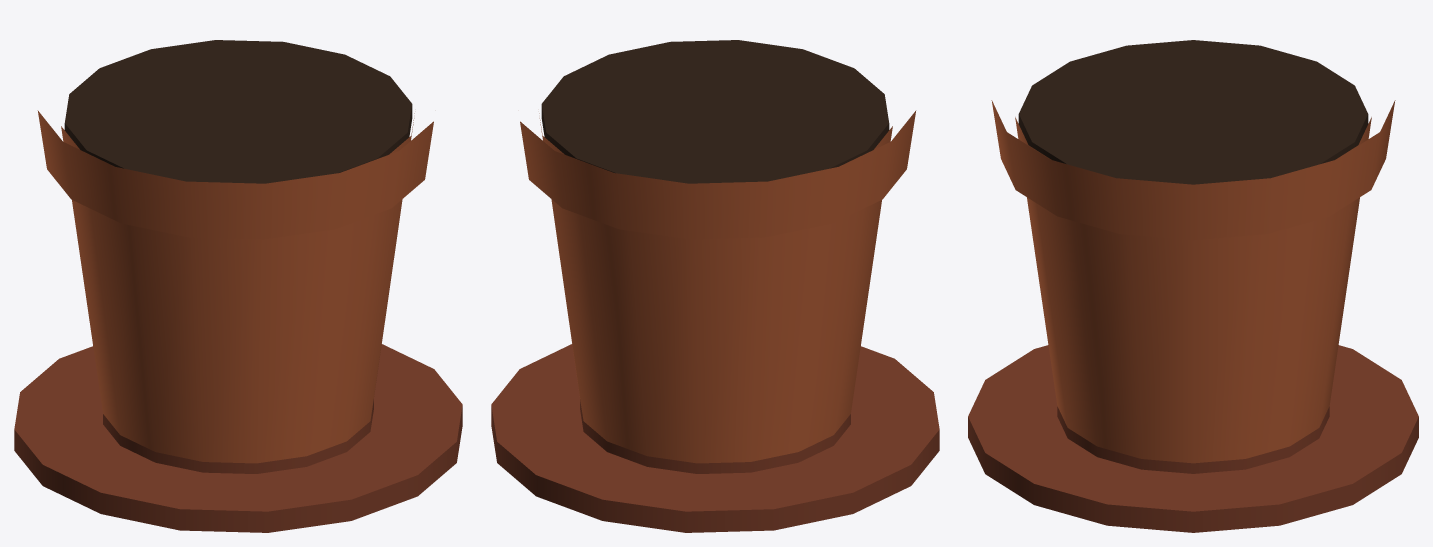
Rendered from pot.glb.
The picture shows the model from 3 angles, left to right: view 1: azimuth 30°, elevation 25°; view 2: azimuth 150°, elevation 25°; view 3: azimuth 270°, elevation 25°; orthographic projection.
Parts seen in each view (by area): view 1: terracottaBowl, soil, drainageSaucer, rolledRim, potBase; view 2: terracottaBowl, soil, drainageSaucer, rolledRim, potBase; view 3: terracottaBowl, soil, drainageSaucer, rolledRim, potBase.
Part boxes in pixels (x1,y1,x2,y2): terracottaBowl: [61, 113, 414, 463]; soil: [64, 40, 412, 183]; drainageSaucer: [14, 344, 462, 532]; rolledRim: [37, 110, 433, 239]; potBase: [103, 399, 373, 473]; terracottaBowl: [539, 113, 892, 463]; soil: [541, 40, 889, 183]; drainageSaucer: [491, 344, 939, 532]; rolledRim: [520, 110, 916, 239]; potBase: [580, 399, 850, 473]; terracottaBowl: [1015, 117, 1371, 463]; soil: [1018, 40, 1368, 184]; drainageSaucer: [968, 345, 1418, 532]; rolledRim: [991, 100, 1395, 240]; potBase: [1057, 406, 1329, 473].
Bounding box in the file's own units: 0.48 × 0.3975 × 0.48.
